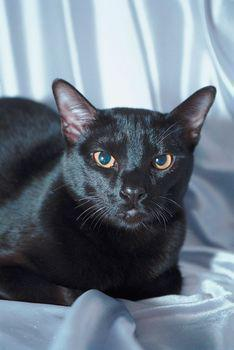cat: (0, 77, 217, 307)
